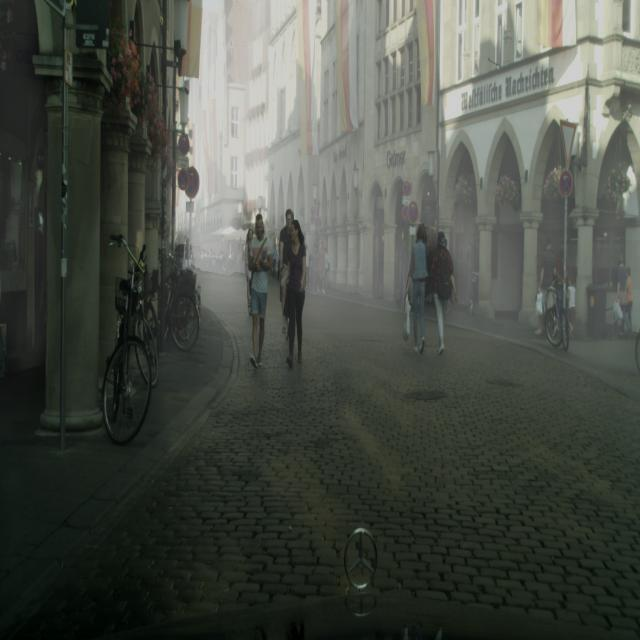car: (102, 234, 156, 446), (147, 255, 200, 354), (545, 278, 570, 351)
person: (247, 212, 272, 369), (283, 219, 307, 368), (431, 232, 458, 354), (406, 224, 428, 354), (537, 241, 558, 336), (278, 208, 294, 331), (613, 254, 627, 338), (622, 266, 633, 336)
